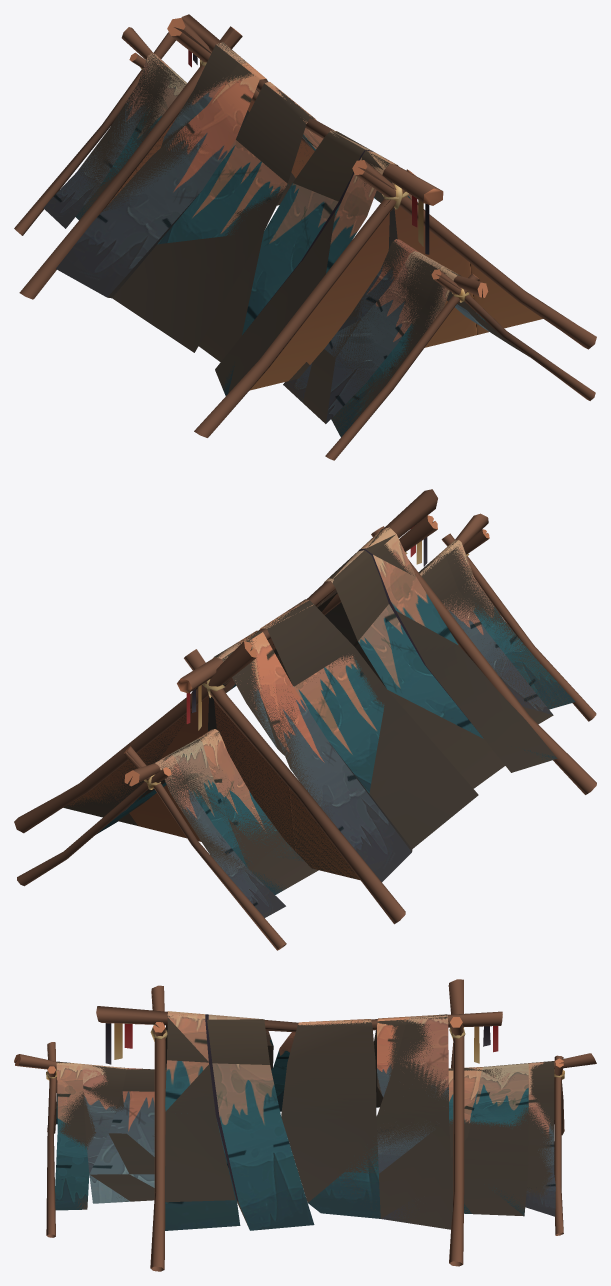
Rendered from Tent_1B.FBX.
3 views of the same model, one above another, from view 1: azimuth 30°, elevation 25°; view 2: azimuth 150°, elevation 25°; view 3: azimuth 270°, elevation 25° (orthographic). The views are drawn at different scales.
Visible parts, largest first — view 1: Tent_1B; view 2: Tent_1B; view 3: Tent_1B.
Boxes of the visible parts, bbox=[...] form: Tent_1B: bbox=[14, 14, 596, 460]; Tent_1B: bbox=[14, 489, 596, 950]; Tent_1B: bbox=[14, 979, 596, 1271].
Bounding box in the file's own units: 798 × 478 × 1234.
